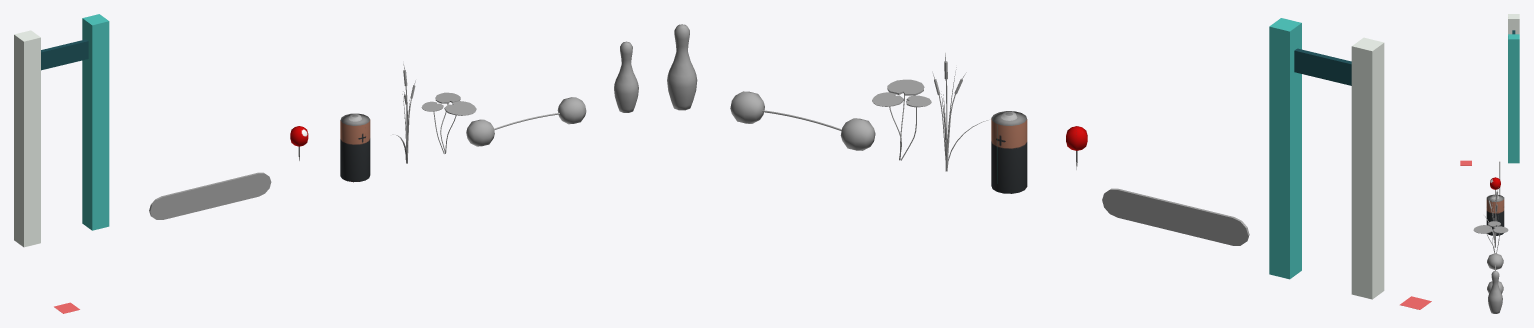
The model's file is prp_population.fbx.
3 renders of one model, left to right at view 1: azimuth 30°, elevation 25°; view 2: azimuth 150°, elevation 25°; view 3: azimuth 270°, elevation 25°, orthographic. The views are drawn at different scales.
Parts seen in each view (by area): view 1: prpPortal, prp_cardboard, prp_battery, prp_Weights, prp_bowlingPin, prp_lilly, prp_reed; view 2: prpPortal, prp_cardboard, prp_battery, prp_Weights, prp_bowlingPin, prp_lilly, prp_reed; view 3: prpPortal, prp_battery, prp_bowlingPin, prp_lilly, prp_Weights, prp_reed, prp_pin.
Boxes of the visible parts, x1=… form: prpPortal: x1=14, y1=14, x2=109, y2=313; prp_cardboard: x1=149, y1=172, x2=271, y2=219; prp_battery: x1=340, y1=113, x2=370, y2=182; prp_Weights: x1=466, y1=97, x2=586, y2=146; prp_bowlingPin: x1=614, y1=41, x2=638, y2=112; prp_lilly: x1=421, y1=92, x2=476, y2=153; prp_reed: x1=392, y1=63, x2=415, y2=163; prpPortal: x1=1269, y1=18, x2=1431, y2=309; prp_cardboard: x1=1102, y1=188, x2=1249, y2=245; prp_battery: x1=991, y1=111, x2=1027, y2=193; prp_Weights: x1=730, y1=91, x2=875, y2=150; prp_bowlingPin: x1=667, y1=24, x2=697, y2=110; prp_lilly: x1=872, y1=79, x2=931, y2=160; prp_reed: x1=932, y1=53, x2=988, y2=171; prpPortal: x1=1460, y1=14, x2=1519, y2=165; prp_battery: x1=1486, y1=194, x2=1504, y2=235; prp_bowlingPin: x1=1488, y1=271, x2=1502, y2=313; prp_lilly: x1=1473, y1=221, x2=1508, y2=253; prp_Weights: x1=1487, y1=253, x2=1503, y2=293; prp_reed: x1=1484, y1=187, x2=1499, y2=247; prp_pin: x1=1490, y1=177, x2=1500, y2=194.
Size of the model in its own units: 5606 by 2163 by 795.
